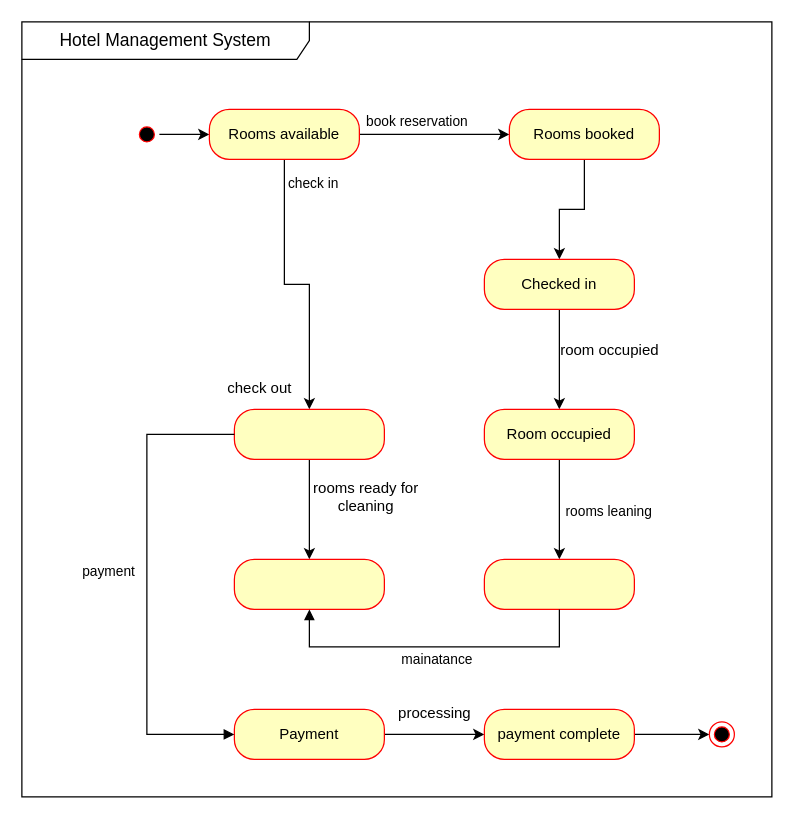
Some shapes in this 794 by 819 pixel diagram are drawn without their labels. Here are the shapes that lost their labels. From the top down, the box of each, then its label:
(233, 408, 384, 459): Room checked out
(233, 558, 384, 609): Room under maintance
(483, 558, 634, 609): Room cleaned
